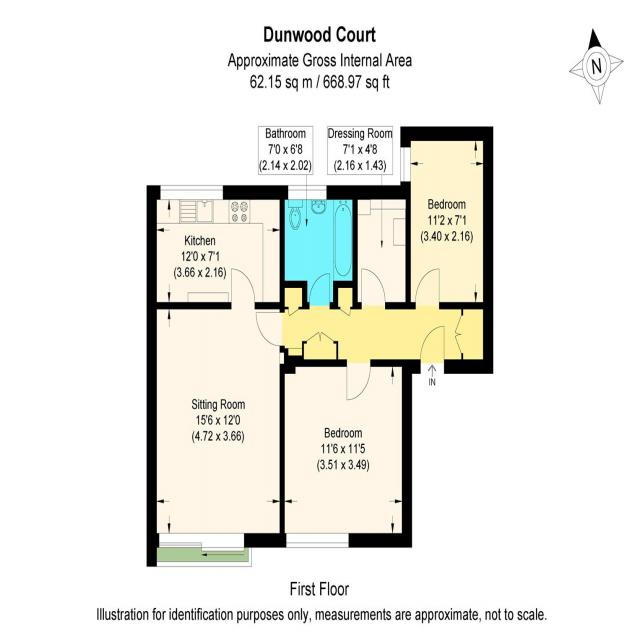DOOR: (419, 324, 446, 374), (255, 310, 285, 348), (360, 267, 386, 310), (229, 268, 256, 309), (345, 359, 371, 401), (414, 267, 440, 309), (308, 272, 331, 309)
ROOM: (146, 267, 285, 569), (280, 359, 412, 548), (146, 184, 285, 310), (399, 126, 494, 310)
WINDOW: (159, 184, 224, 201), (285, 532, 349, 549), (287, 184, 328, 201), (399, 146, 412, 183)
